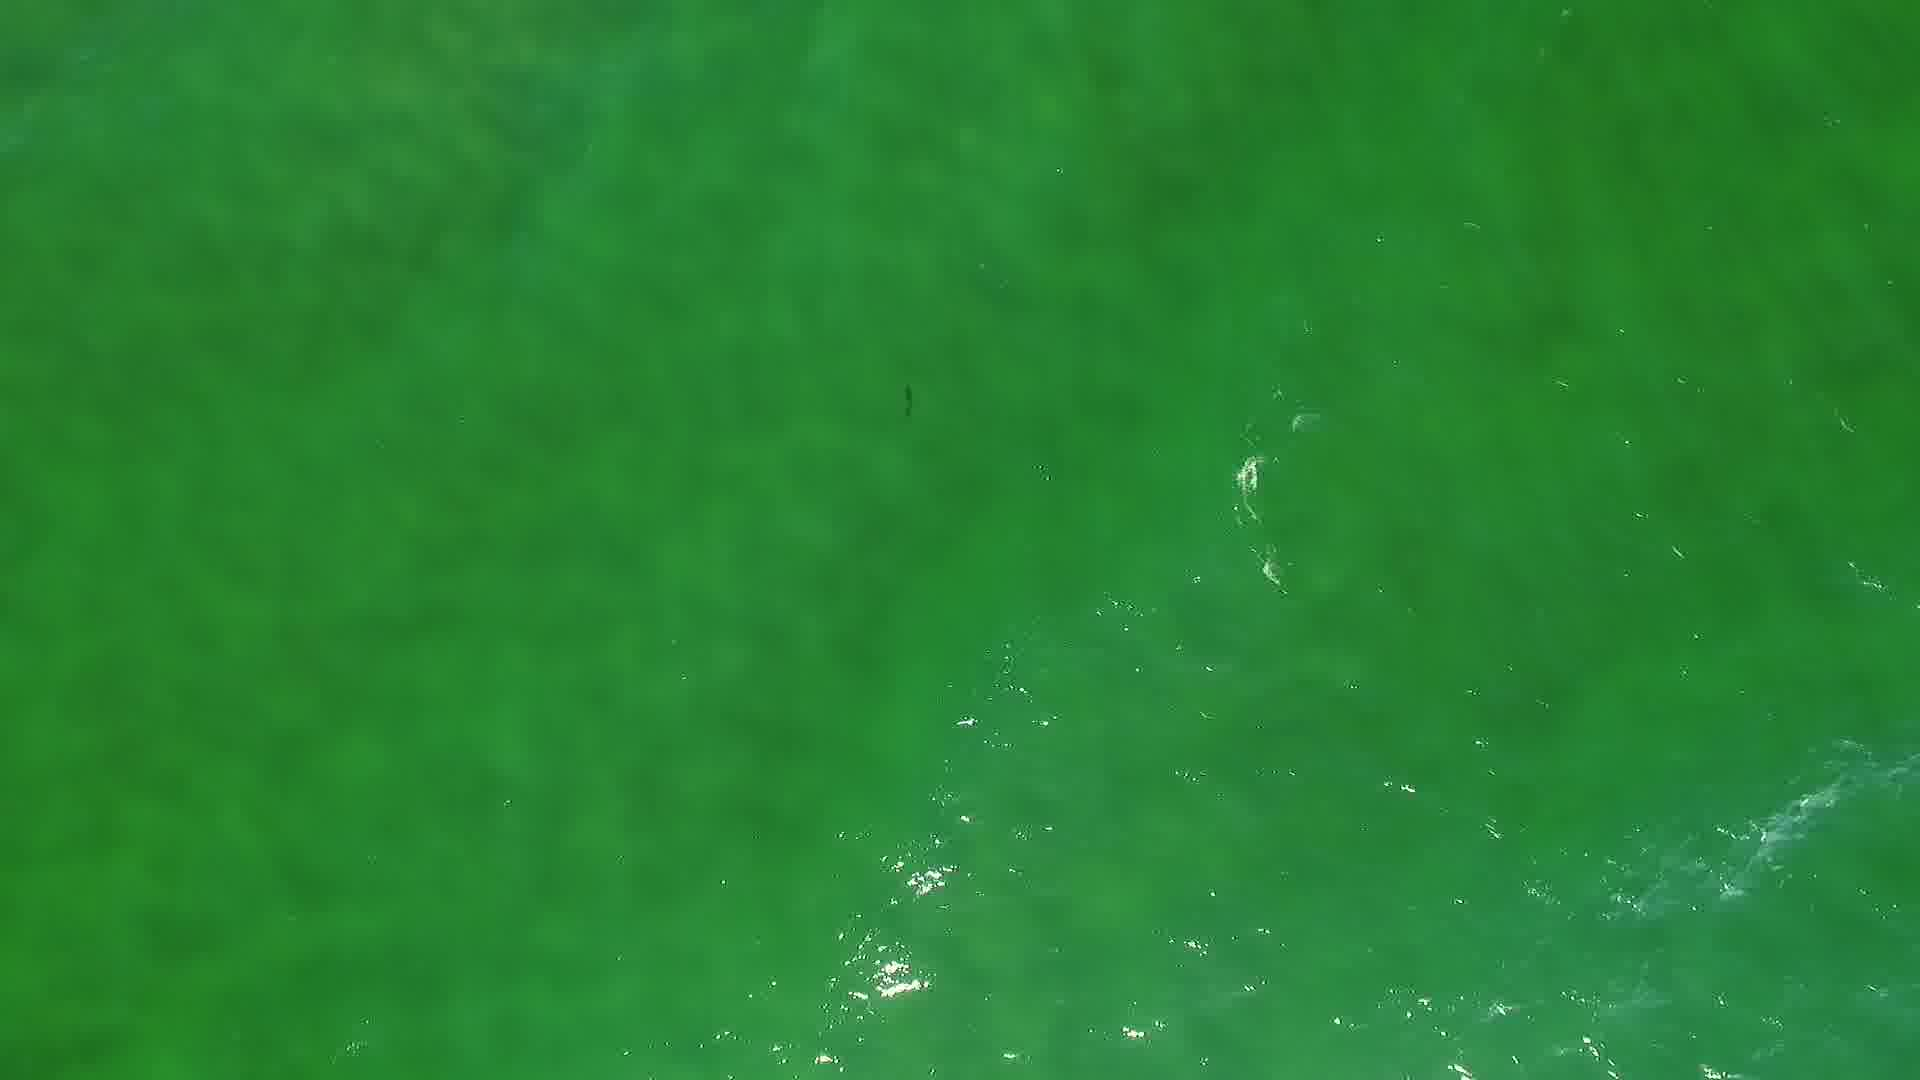shark: (895, 380, 919, 425)
